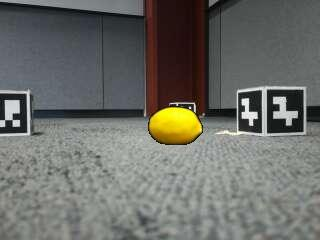lemon: (150, 107, 202, 144)
